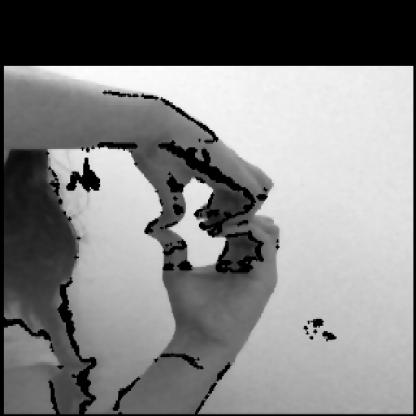heart: (125, 88, 308, 364)
